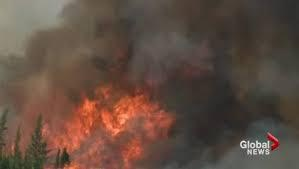fire: (43, 78, 176, 165)
